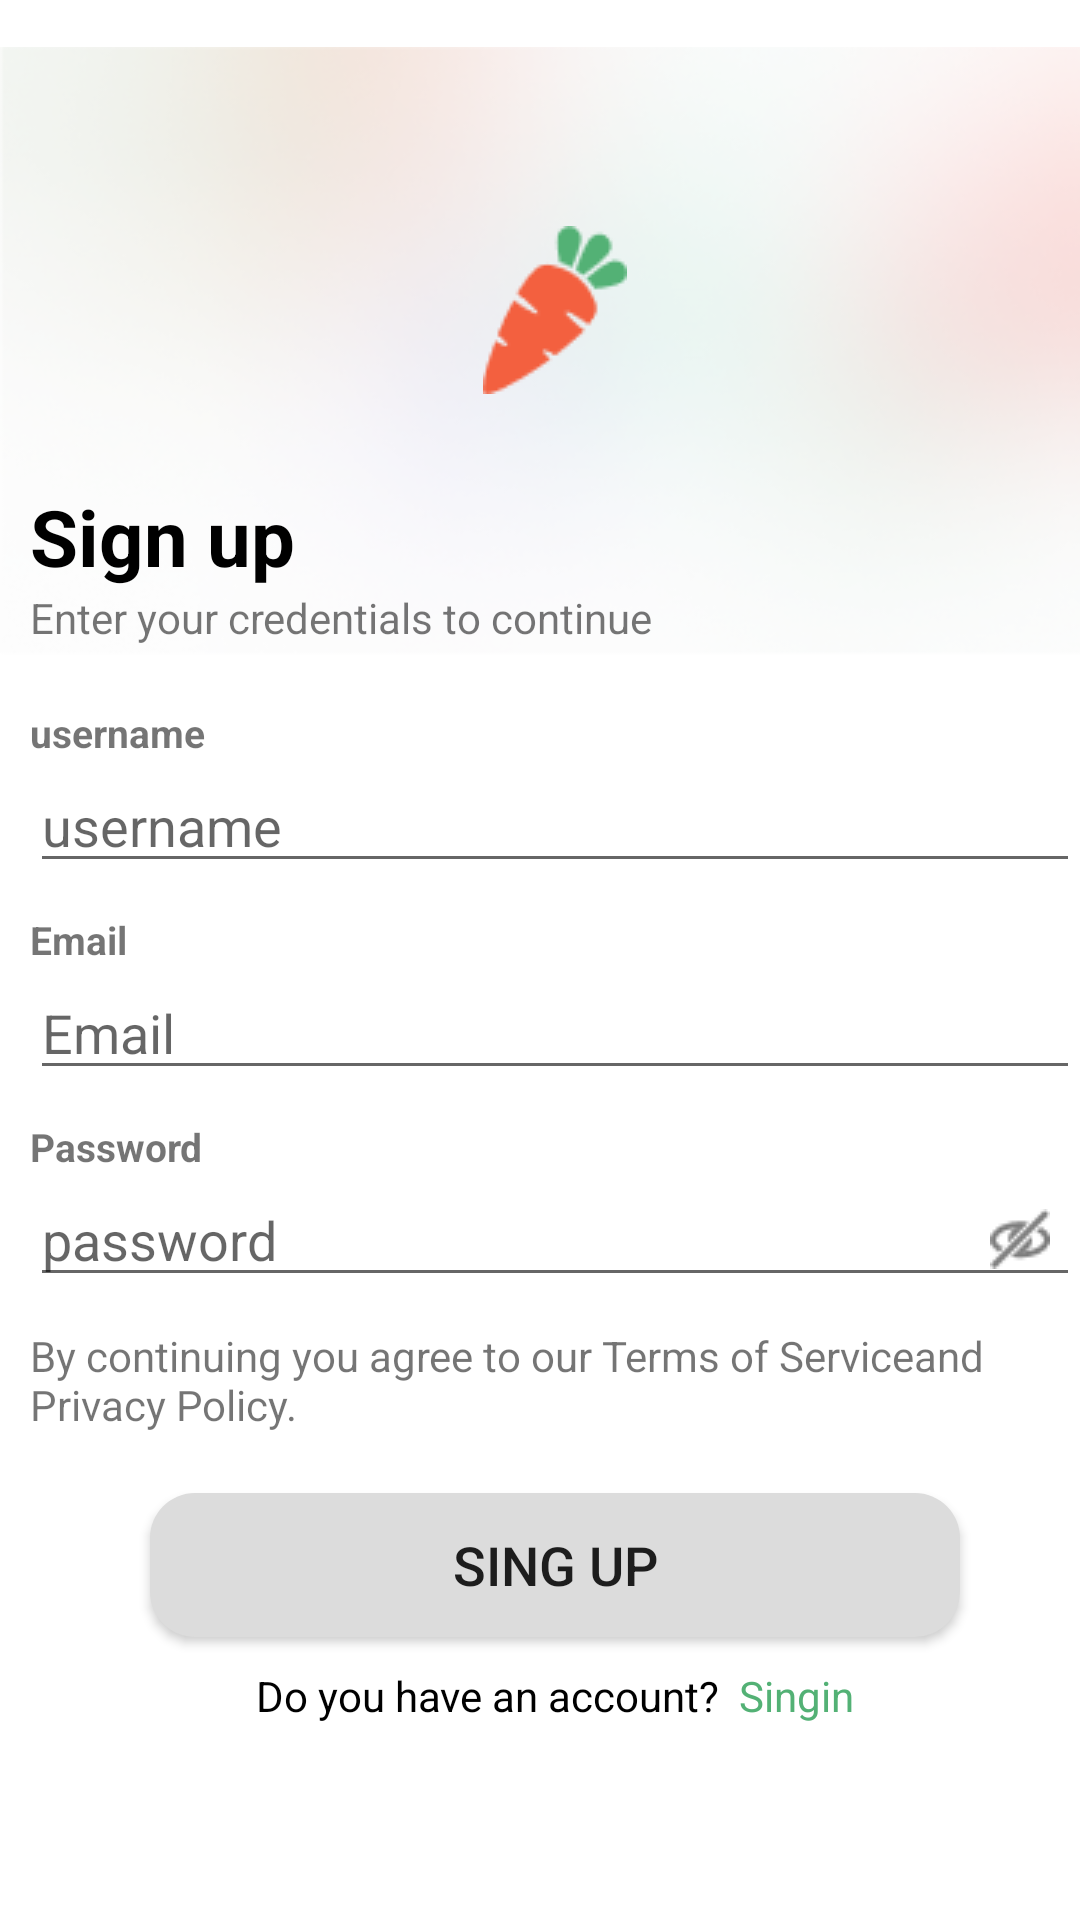

Named icons in this screenshot (1080w x 1920h) and their centers, (x,y):
carrot: (555,310)
